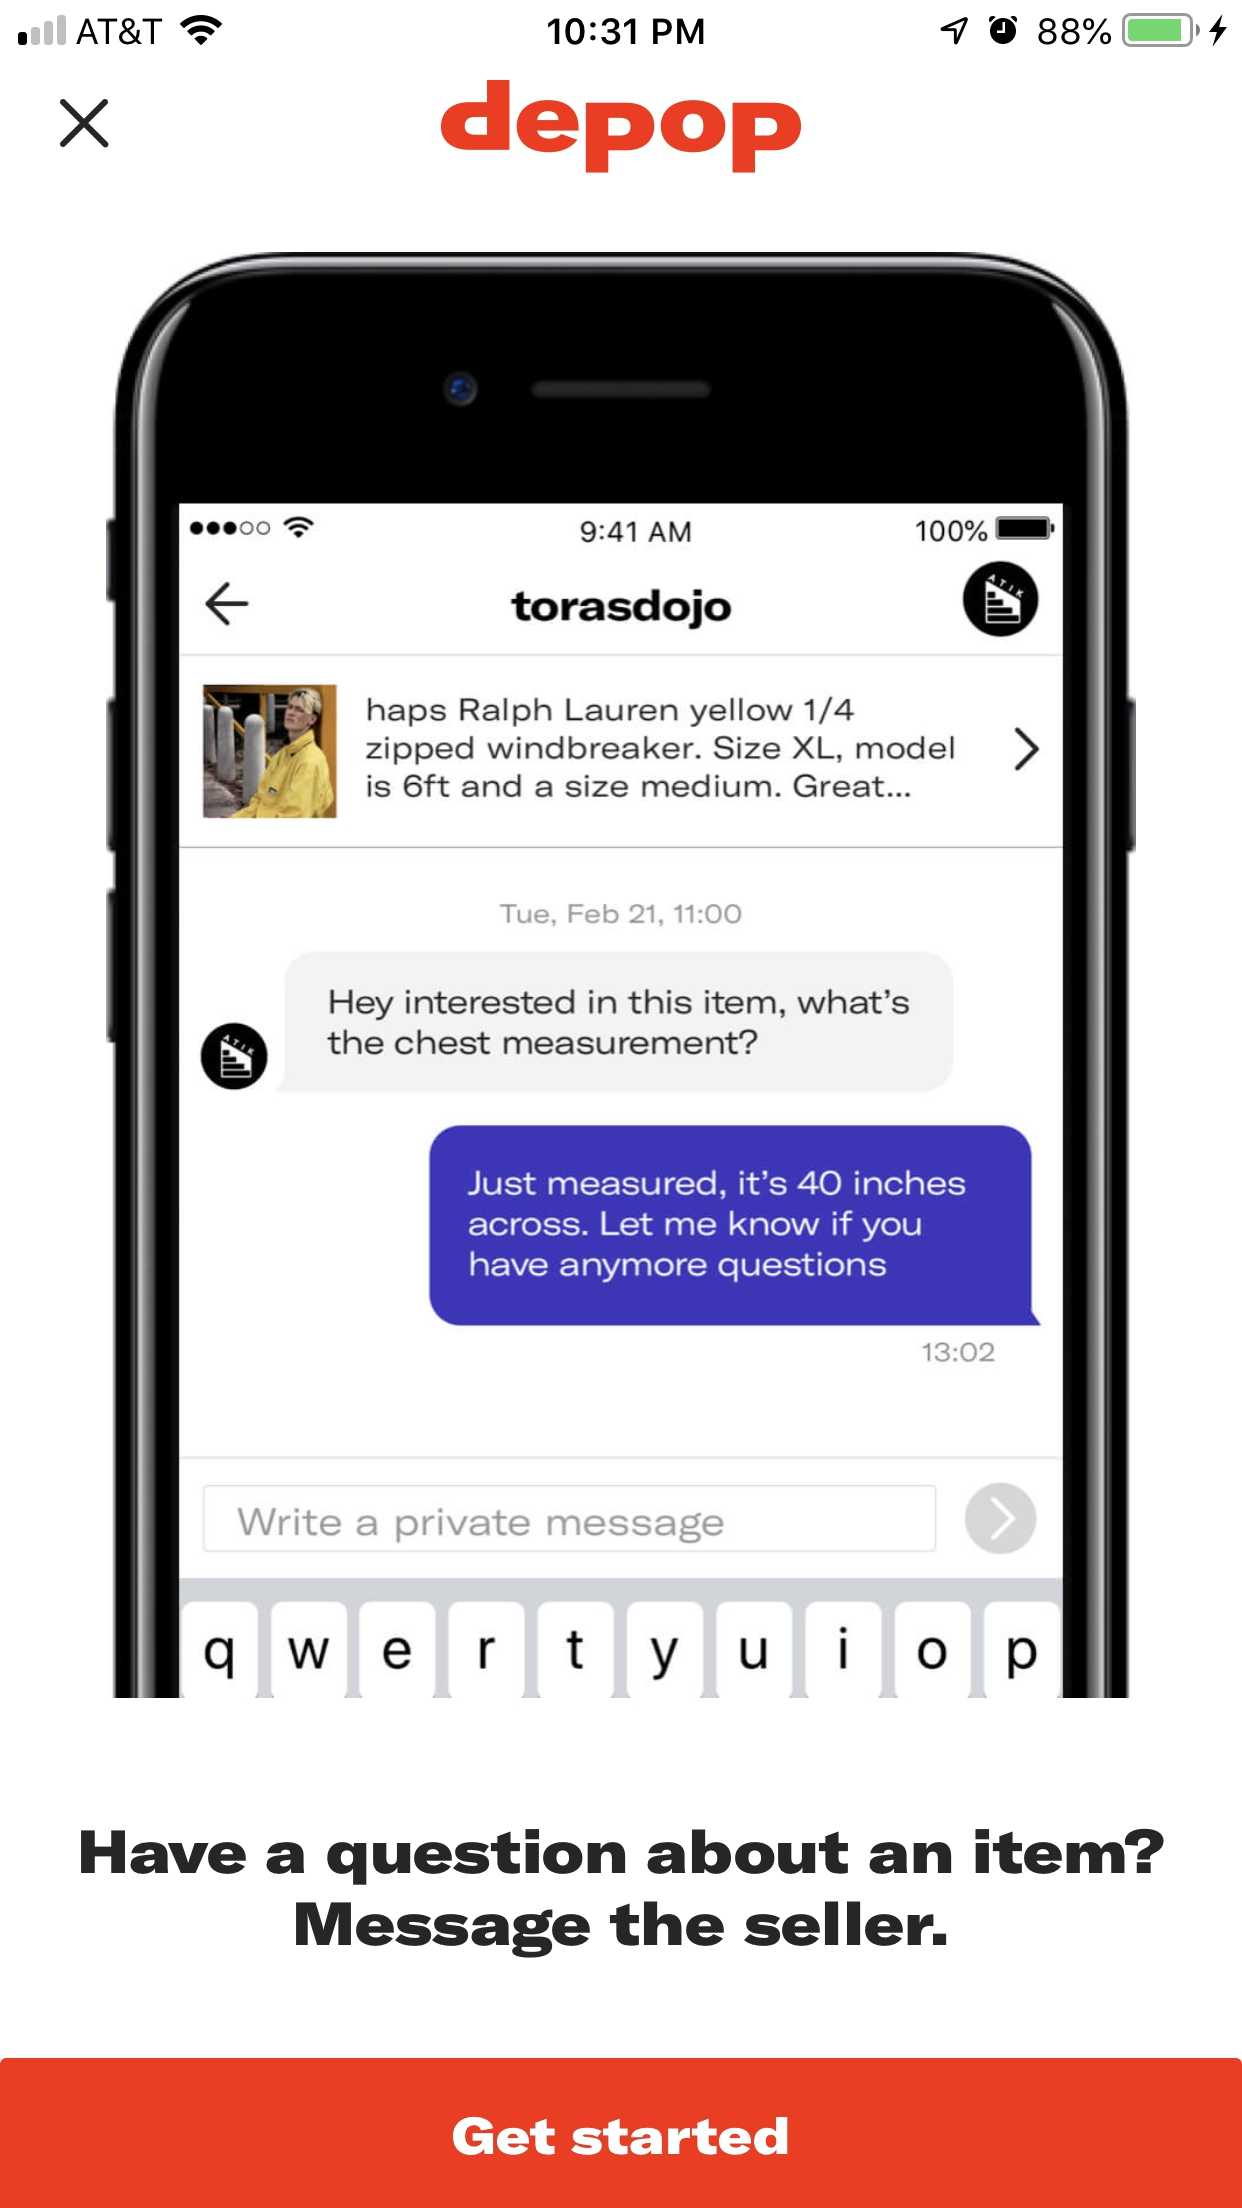Icon: (59, 99, 111, 149)
Image: (108, 252, 1137, 1698)
Text: (80, 1827, 1165, 1959), (440, 80, 802, 174)
TextButton: (2, 2056, 1242, 2208)
UpperTaskBar: (2, 2, 1242, 49)
